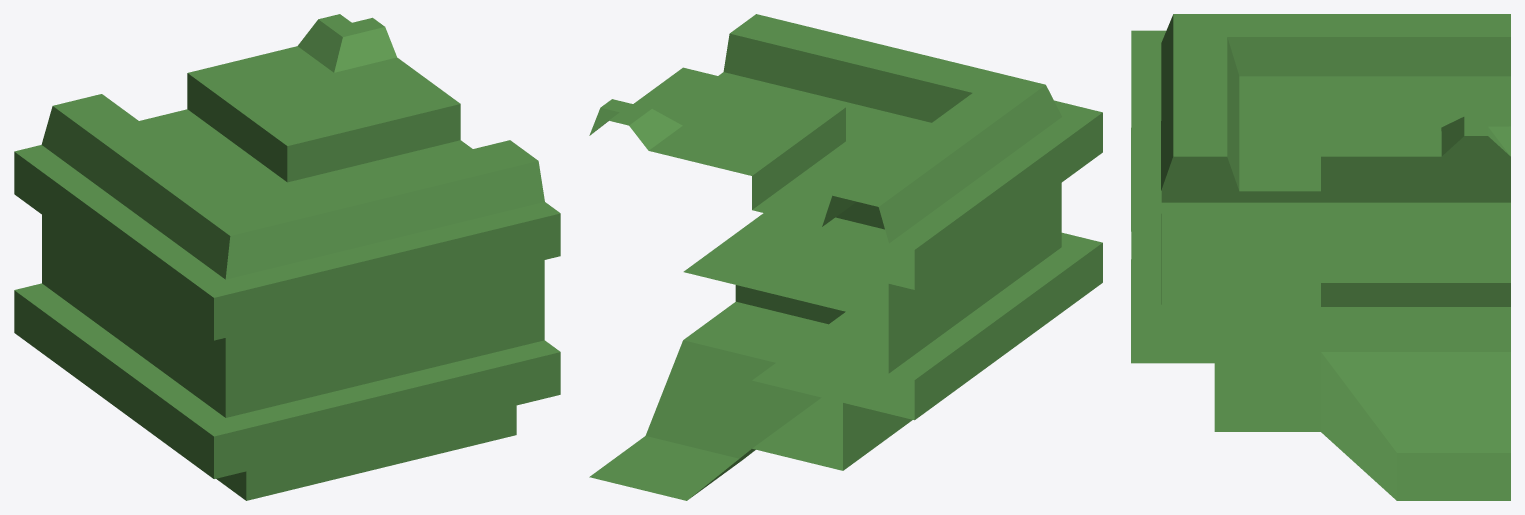
Rendered from parapet corner out top.FBX.
3 views of the same model, side by side, from view 1: azimuth 30°, elevation 25°; view 2: azimuth 150°, elevation 25°; view 3: azimuth 270°, elevation 25° (orthographic). The views are drawn at different scales.
Visible parts, largest first — view 1: Object332; view 2: Object332; view 3: Object332.
Part boxes in pixels (x1=…): Object332: x1=14, y1=14, x2=560, y2=500; Object332: x1=589, y1=14, x2=1102, y2=500; Object332: x1=1131, y1=14, x2=1510, y2=500.
Bounding box in the file's own units: 0.5002 × 0.53 × 0.5.
